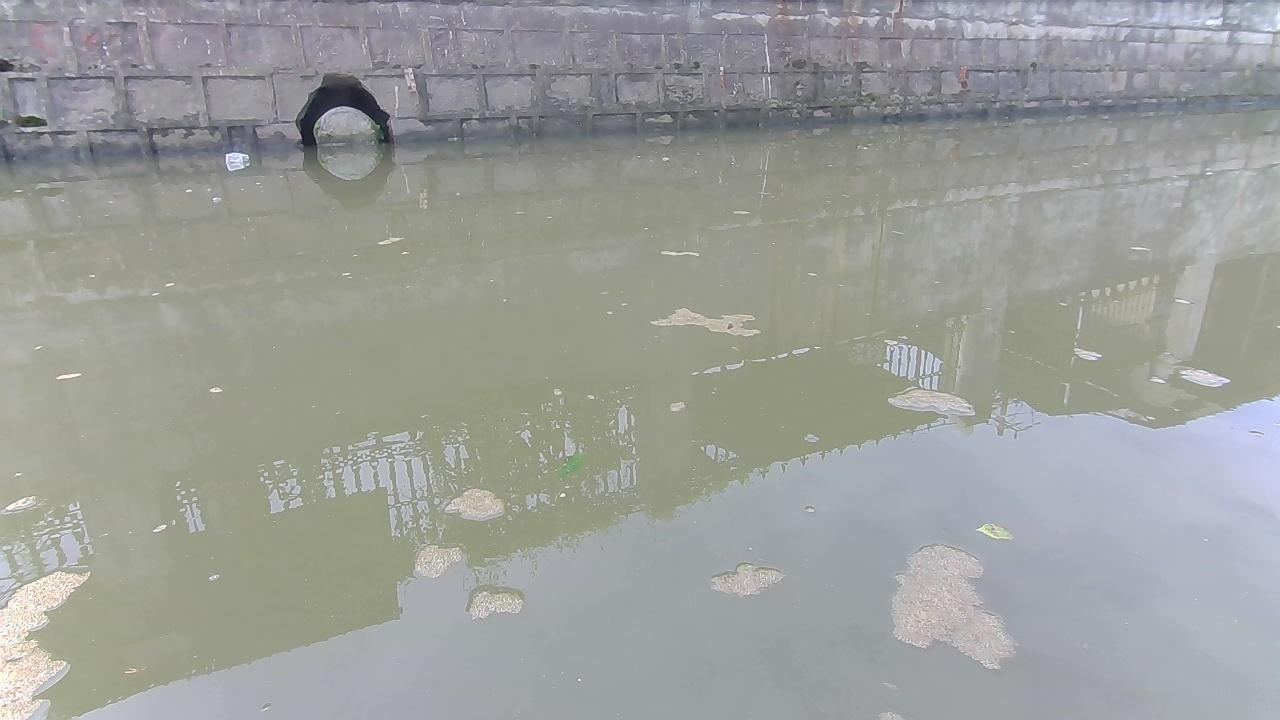bottle: (218, 151, 258, 167)
